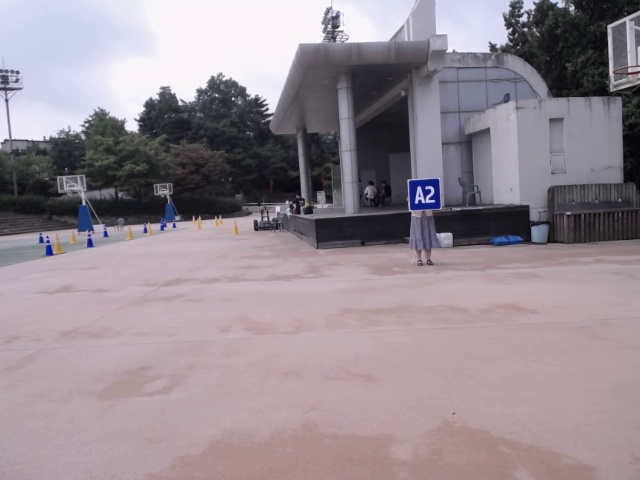delivery_a2: (408, 178, 441, 211)
